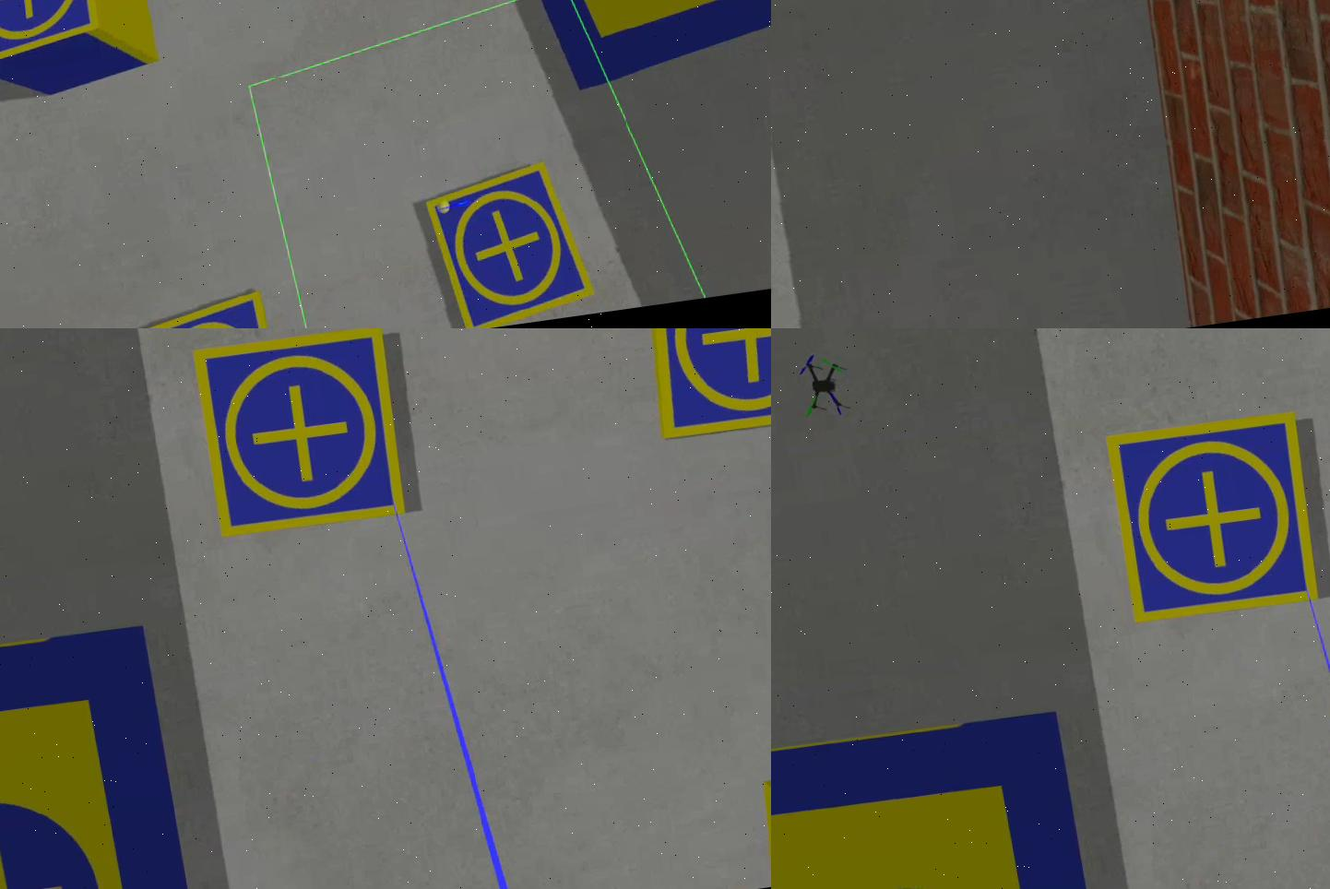large_base: (772, 710, 1111, 889), (1, 624, 198, 889), (454, 1, 772, 97)
small_base: (1105, 405, 1328, 634), (191, 329, 414, 548), (422, 158, 600, 329), (634, 329, 772, 444), (1, 1, 109, 77), (128, 288, 279, 329)
